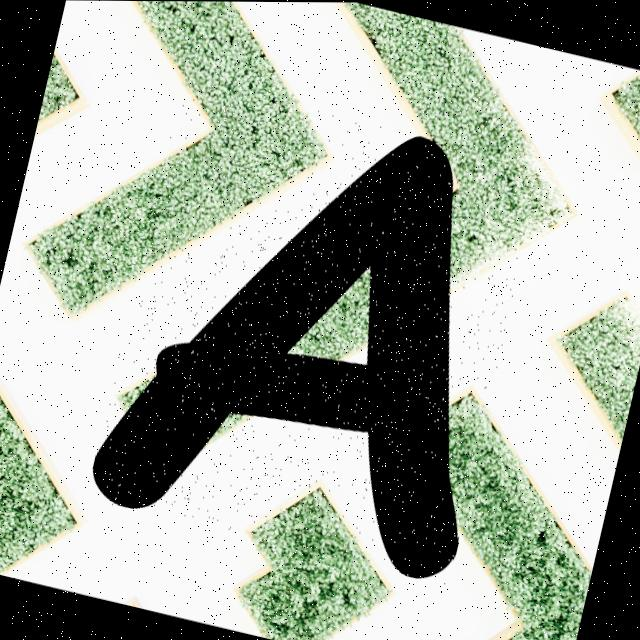A: (91, 134, 458, 577)
